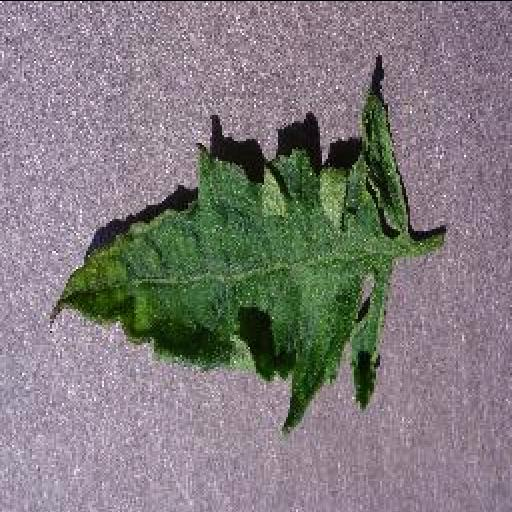Mosaic Virus: (48, 89, 414, 431)
